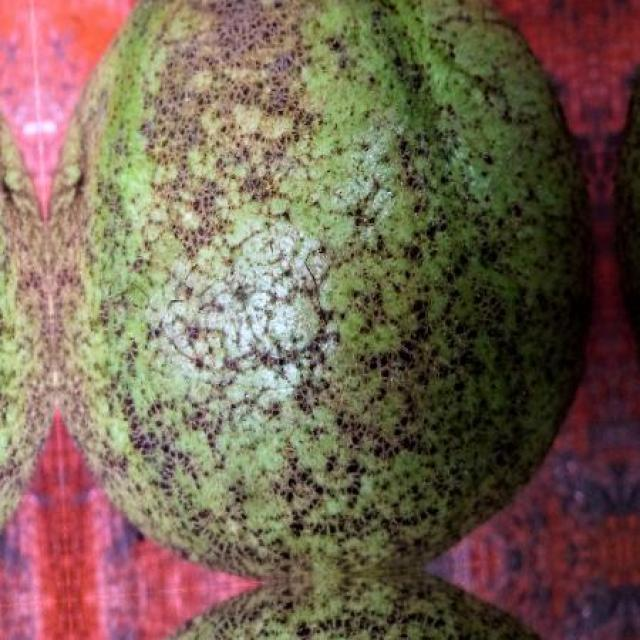Scab: (0, 0, 589, 640)
